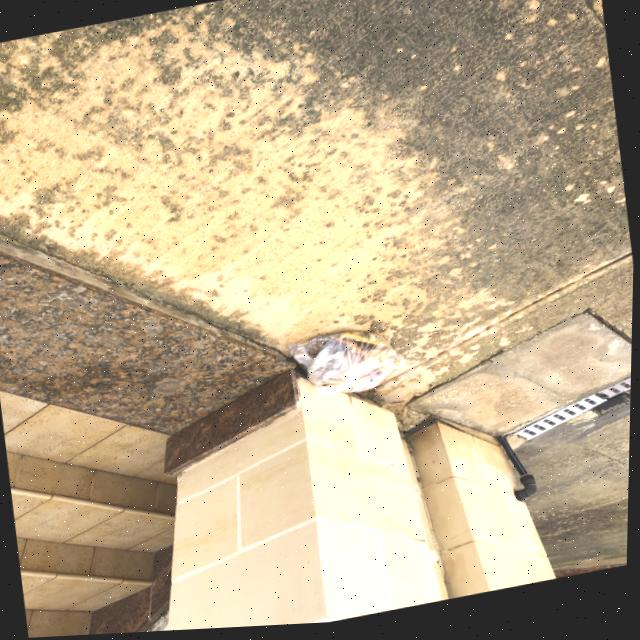Organic Waste -White Bag-: (287, 325, 412, 408)
